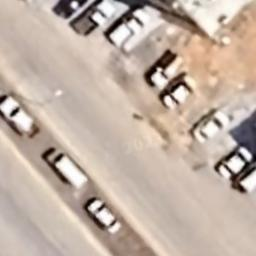SUV: (1, 96, 37, 138)
pickup: (70, 0, 114, 38)
sedan: (86, 198, 124, 238), (192, 110, 232, 142), (216, 147, 252, 180), (165, 76, 198, 110), (55, 2, 88, 18)
truck: (46, 146, 88, 189)
van: (235, 161, 256, 195)
